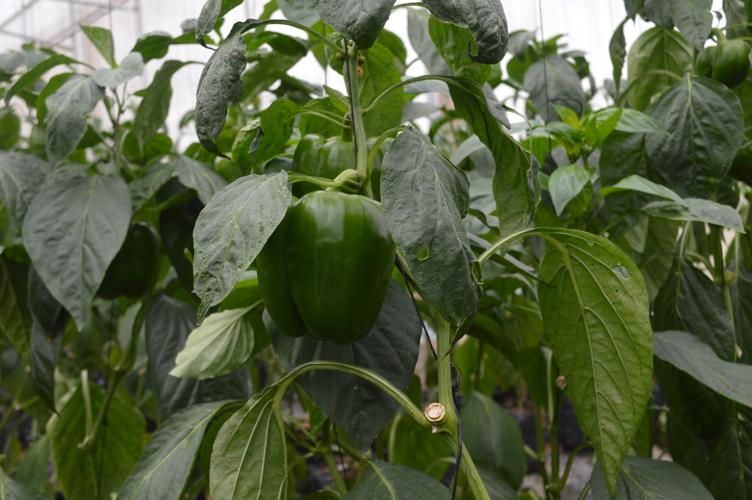BellPepper: (251, 195, 393, 341), (288, 132, 386, 197), (101, 225, 157, 303)
